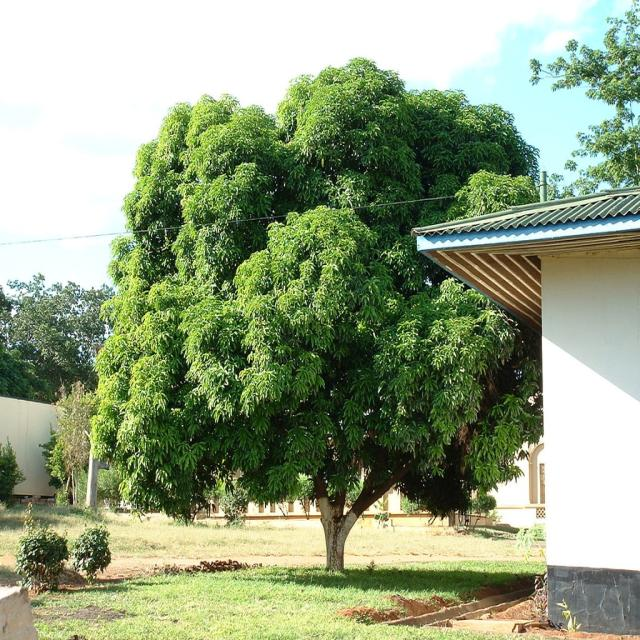Mango-Tree: (103, 62, 543, 576)
